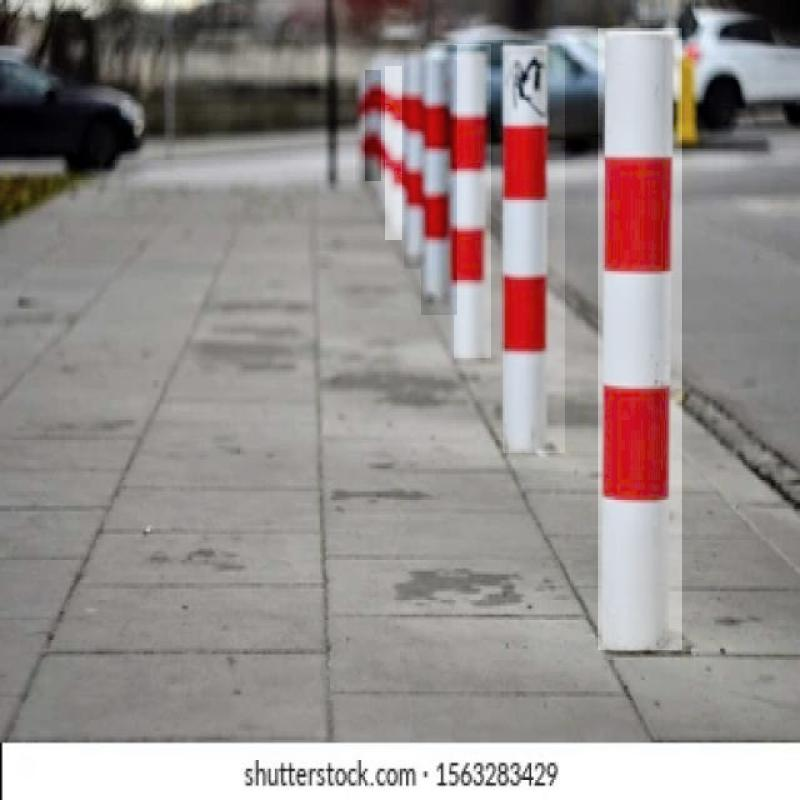pillar: (598, 28, 682, 650), (503, 40, 565, 453), (454, 44, 491, 358), (422, 45, 457, 315), (404, 50, 432, 269), (385, 66, 402, 240), (365, 70, 381, 181)
